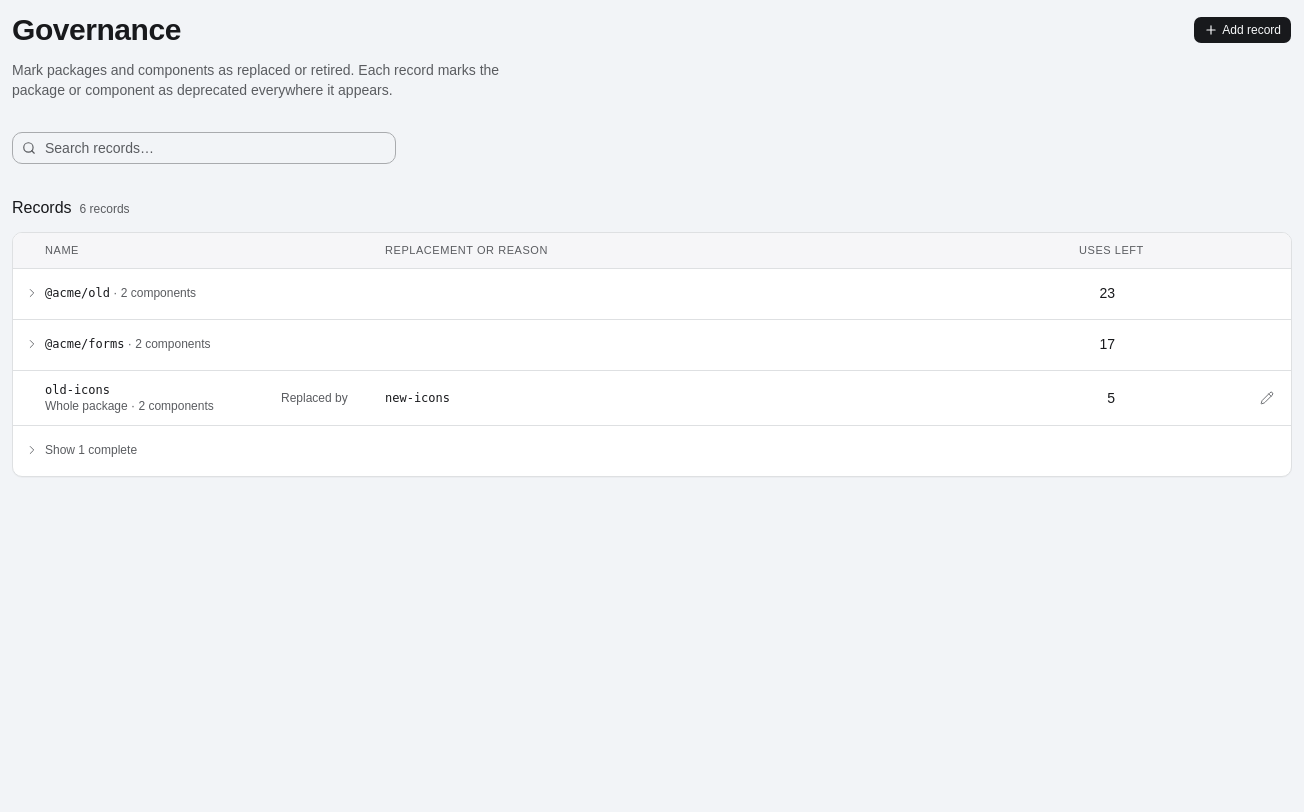
GovernanceManager › drops the repo from counts when fewer than two repos are scanned
Click the button named "Records in " at point(32, 293), box [20, 281, 44, 305]
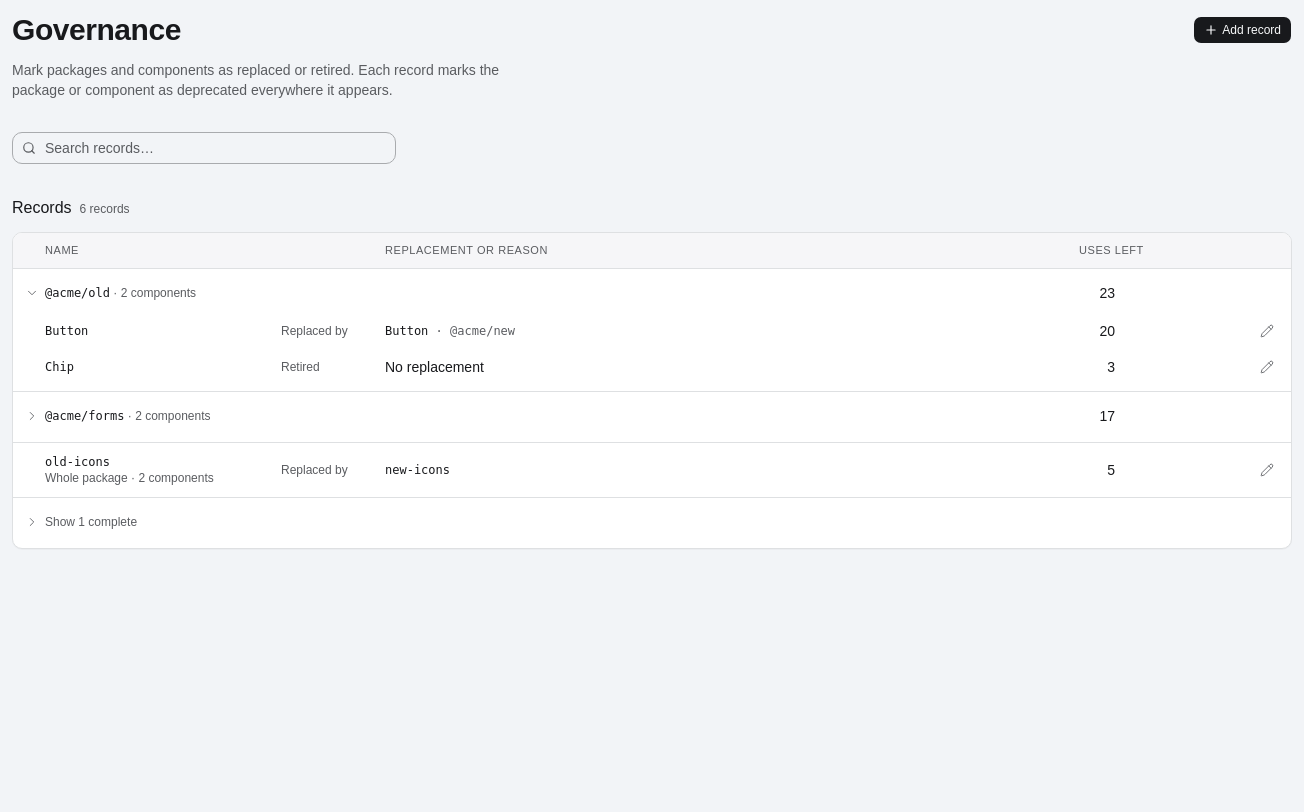
Click the button named "Records in " at point(32, 416), box [20, 404, 44, 428]
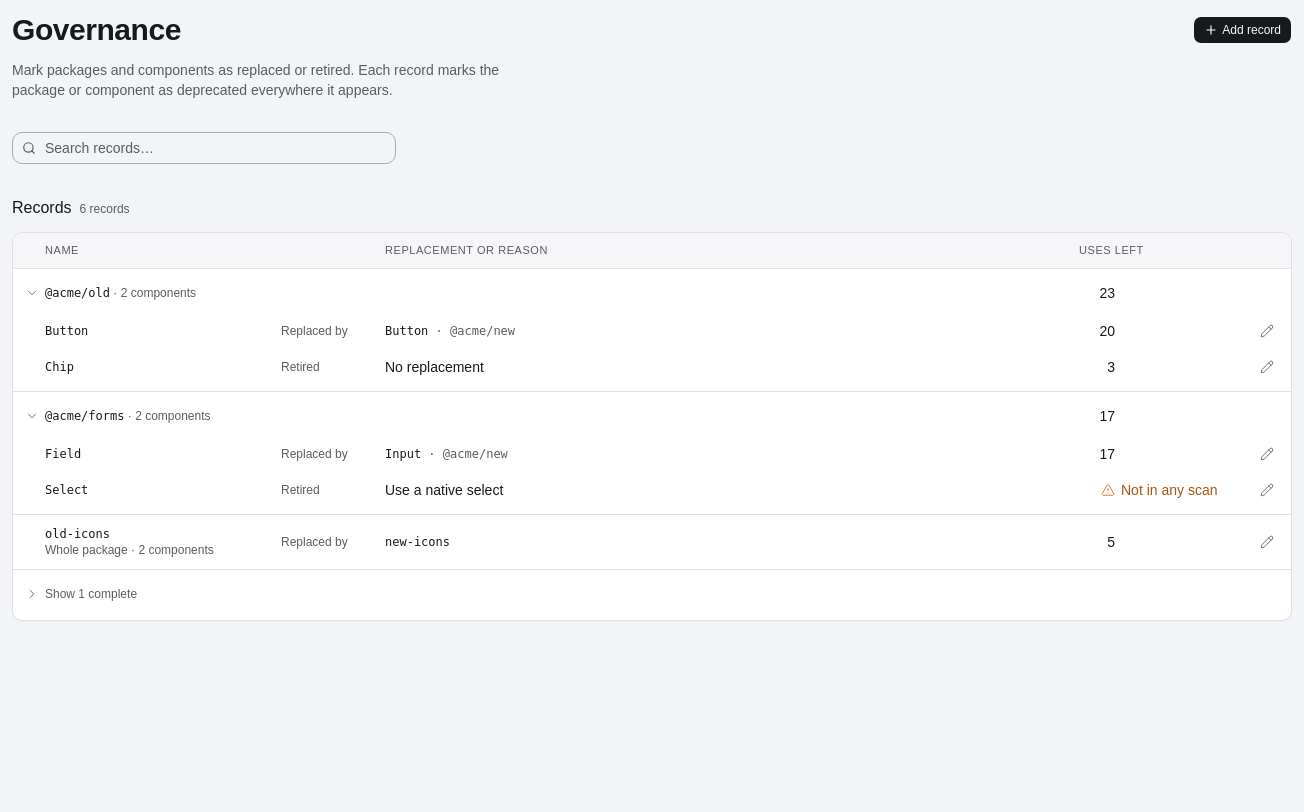
Check: the link named "17 left , trend for Field" is shown, box [1079, 444, 1121, 464]
